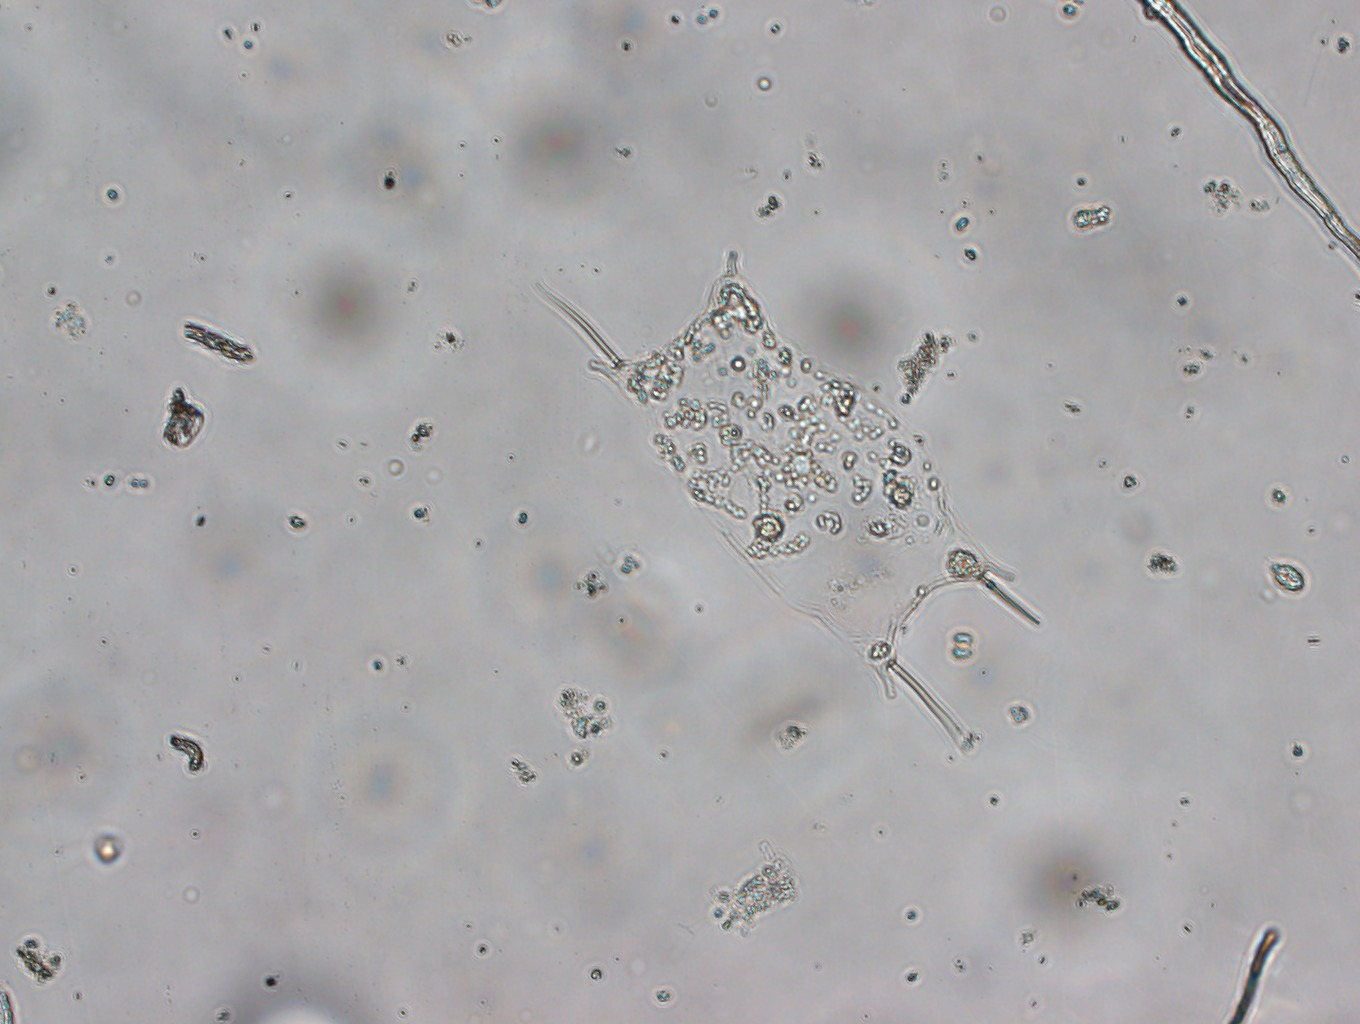biddulphia: (528, 254, 1053, 759)
